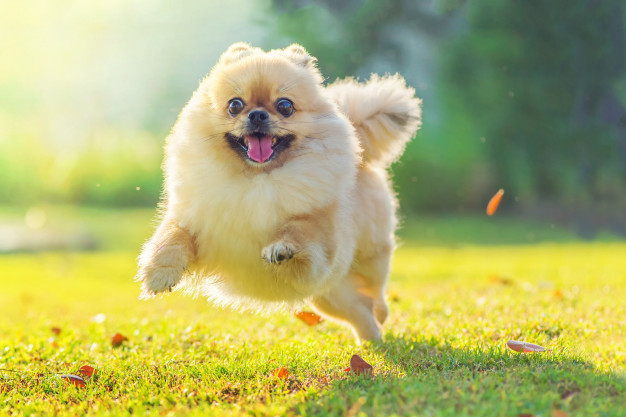dog: (115, 48, 426, 358)
